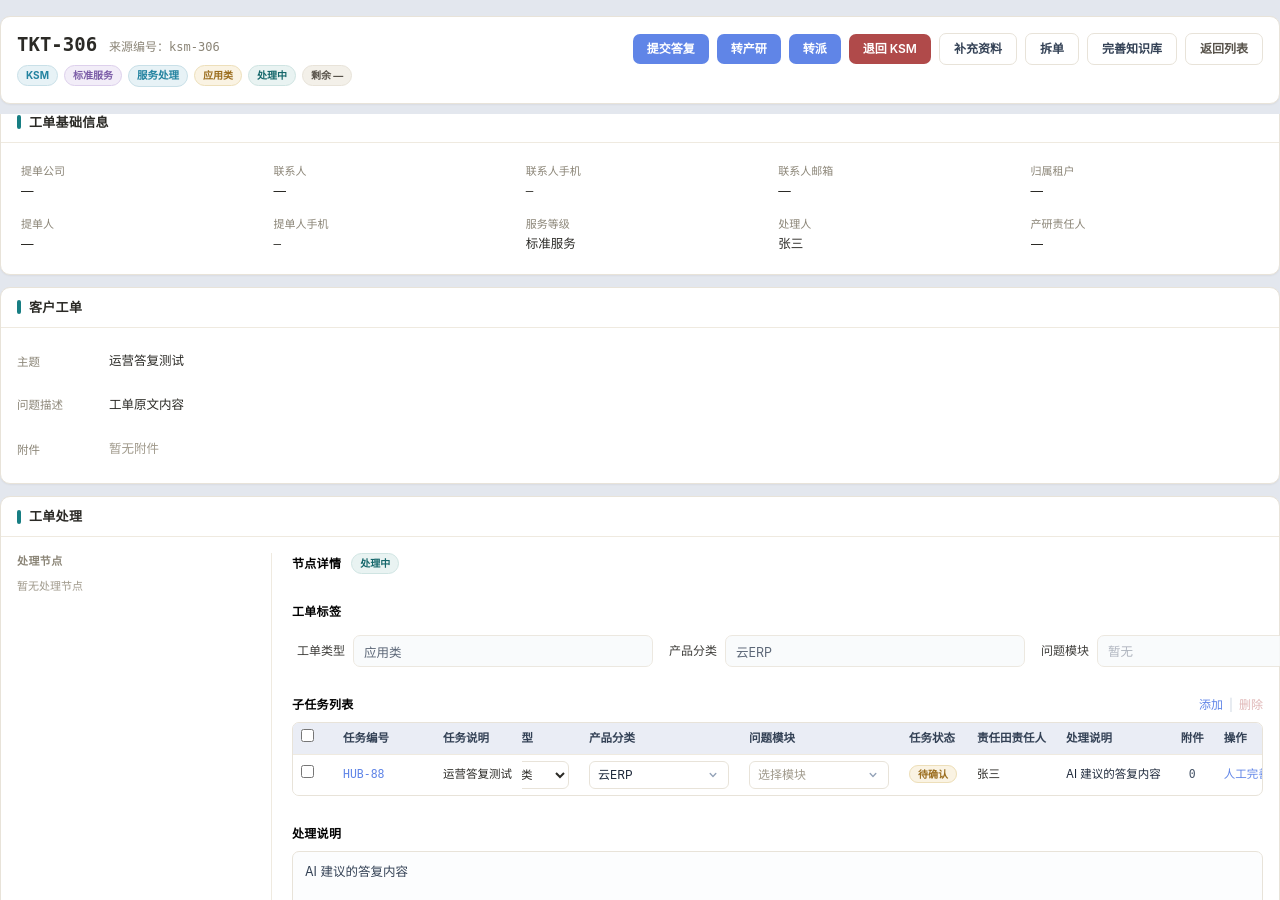
Test: TicketDetailPage › supervisor 运营类 → 处理区显示转派按钮，点击开弹窗含当前处理人/转派人/转派原因
The image size is (1280, 900).
Expected: the heading "TKT-306" is shown, [17, 33, 97, 57]
Step 1. Click the button "转派" → {"x": 815, "y": 49}, box [789, 34, 841, 64]
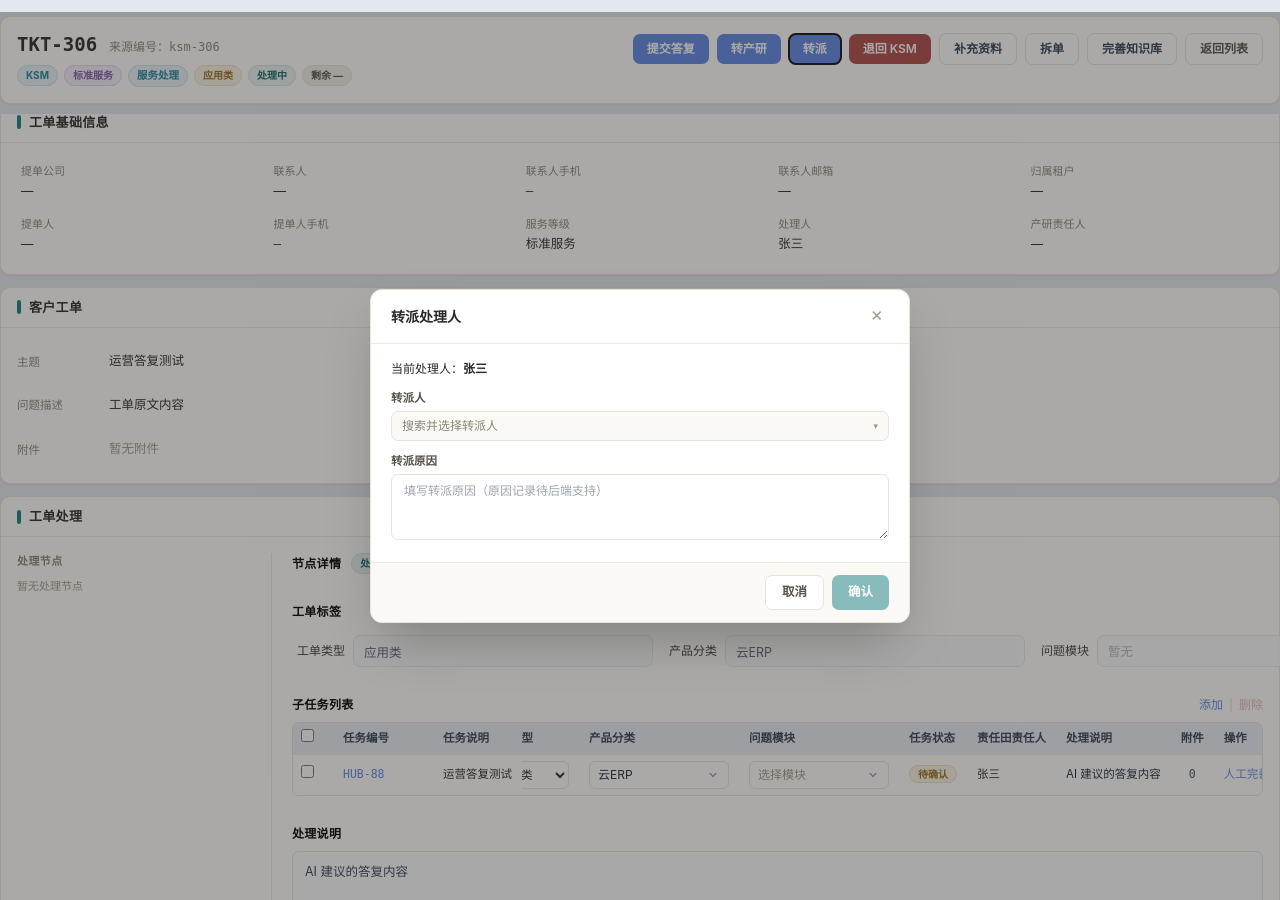
Expected: the text "转派处理人" is shown, [391, 307, 461, 327]
Expected: the text "当前处理人：张三" is shown, [391, 361, 487, 376]
Expected: the text box with placeholder "填写转派原因（原因记录待后端支持）" is shown, [391, 474, 889, 540]
